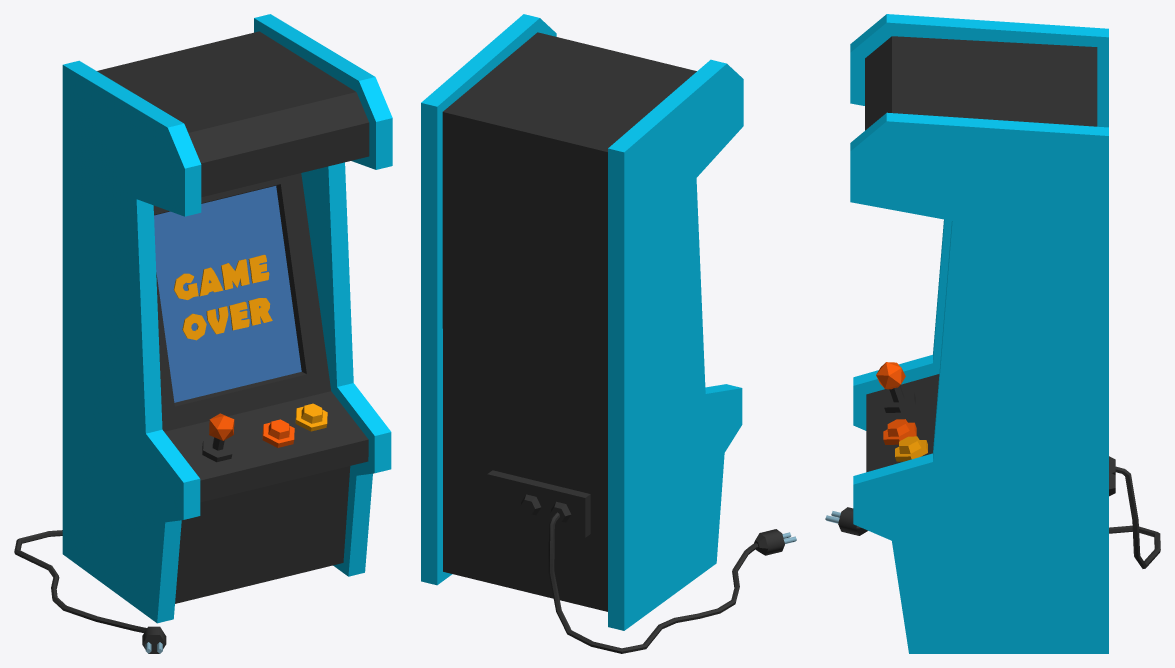
Rendered from arcade.glb.
The picture shows the model from 3 angles, left to right: view 1: azimuth 30°, elevation 25°; view 2: azimuth 150°, elevation 25°; view 3: azimuth 270°, elevation 25°; orthographic projection. The views are drawn at different scales.
Visible parts, largest first — view 1: gamemachine_01, Text001, Line166; view 2: gamemachine_01, Line166, Cylinder449_black_0; view 3: gamemachine_01, Line166.
Part boxes in pixels (left/top/right/bottom): gamemachine_01: left=62, top=14, right=392, bottom=623; Text001: left=173, top=254, right=272, bottom=340; Line166: left=14, top=530, right=146, bottom=632; gamemachine_01: left=421, top=14, right=743, bottom=630; Line166: left=548, top=512, right=758, bottom=653; Cylinder449_black_0: left=754, top=529, right=784, bottom=555; gamemachine_01: left=850, top=14, right=1115, bottom=653; Line166: left=1109, top=466, right=1160, bottom=568.
Bounding box in the file's own units: 102 × 187 × 106.
